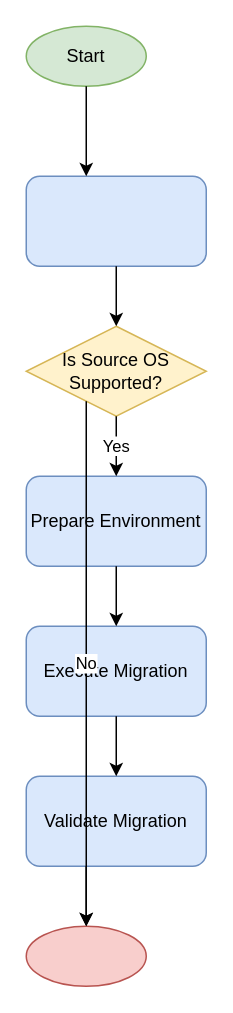
This 233x1013 diagram has some shape labels left out. Each missing label, with the centre of its shape:
"End" belongs at point 85,955.
"Initiate Migration" belongs at point 115,220.
